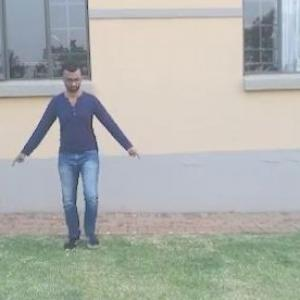land: (0, 56, 139, 261)
